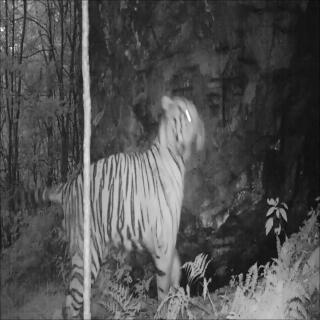Tiger: (57, 85, 202, 312)
